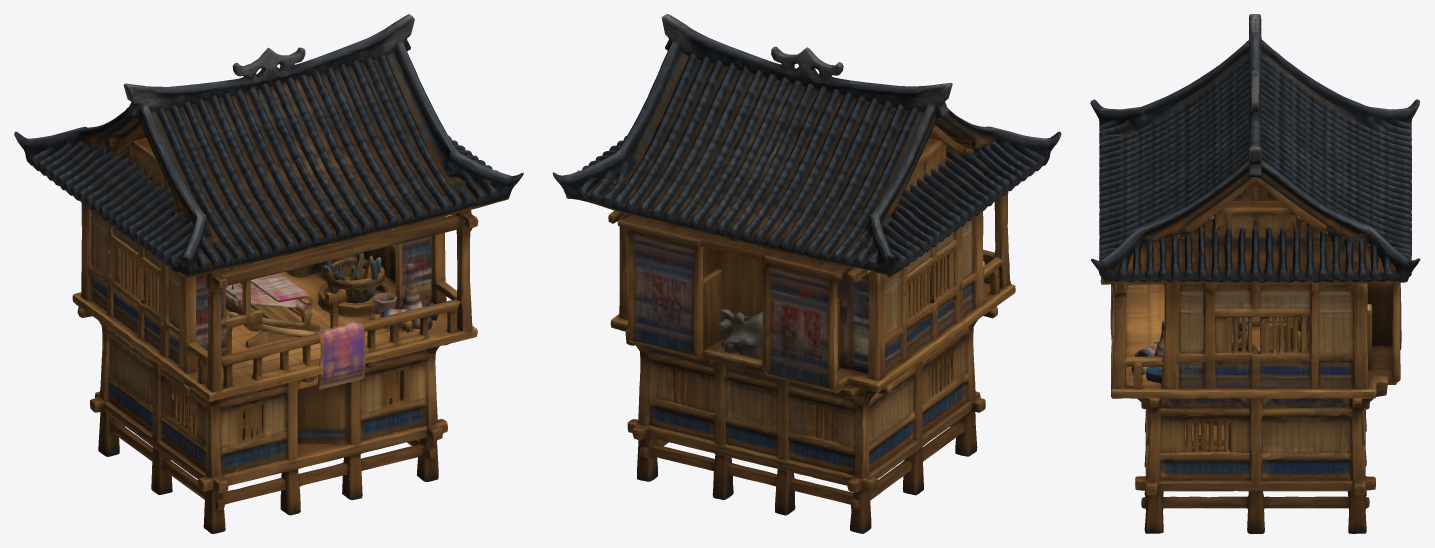
File: embroidery-workshop.glb
The picture shows the model from 3 angles, left to right: view 1: azimuth 30°, elevation 25°; view 2: azimuth 150°, elevation 25°; view 3: azimuth 270°, elevation 25°; orthographic projection. The views are drawn at different scales.
Parts seen in each view (by area): view 1: world; view 2: world; view 3: world.
Part boxes in pixels (<box>): world: <box>14,14,523,533</box>; world: <box>552,14,1061,533</box>; world: <box>1090,14,1420,533</box>.
Bounding box in the file's own units: 0.4723 × 0.55 × 0.4094.
1 material, 1 textured.
